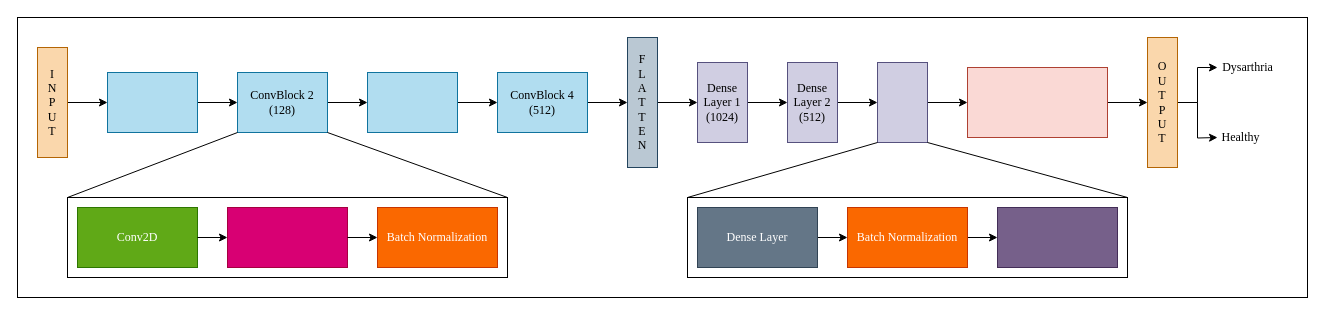
Some shapes in this 1325 by 315 pixel diagram are drawn without their labels. Here are the shapes that lost their labels. From the top down, the centre of each, then its label:
At point 152,102: "ConvBlock 1 (64)".
At point 412,102: "ConvBlock 3 (256)".
At point 902,102: "Dense Layer 3 (256)".
At point 1037,102: "Time Distributed + LSTM".
At point 287,237: "MaxPool2D".
At point 1057,237: "Dropout (0.2)".
